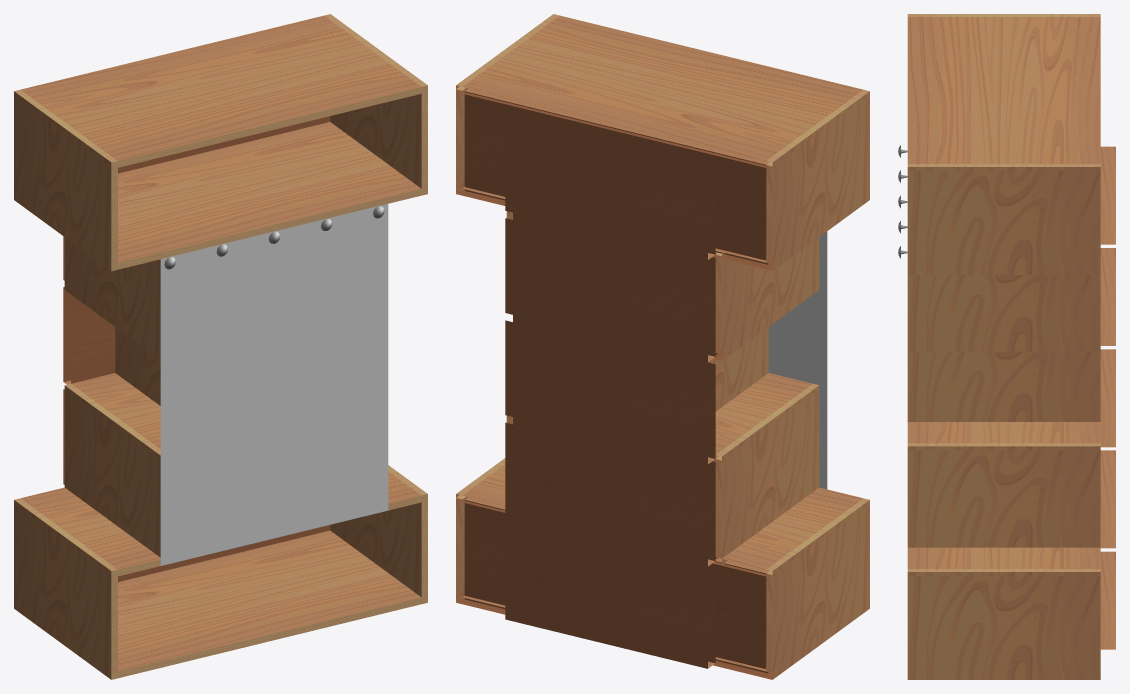
Rendered from layout_poster_hourglass_shape_11c.fbx.
3 renders of one model, left to right at view 1: azimuth 30°, elevation 25°; view 2: azimuth 150°, elevation 25°; view 3: azimuth 270°, elevation 25°, orthographic.
Parts seen in each view (by area): view 1: Mesh-Poster-Large01, Shelf-TM-00 3, Shelf-BM-00 4, Shelf-BM-00 3, Shelf-CL-01 4, Shelf-CL-01 3, Shelf-CL-01 2, Shelf-CL-01 1, Shelf-TM-00 4, Shelf-CR-01 3, Shelf-CR-01 4, Shelf-Back-00 (1) (+12 smaller); view 2: Shelf-TM-00 3, Shelf-Back-00 (1) 3, Shelf-Back-00 (1) 4, Shelf-Back-00 (1) 1, Shelf-Back-00 (1) 2, Shelf-Back-00 (1), Shelf-Back-00 3, Shelf-CL-01 2, Shelf-CL-01 3, Shelf-CL-01 4, Shelf-Back-00 4, Shelf-CL-01 1 (+15 smaller); view 3: Shelf-TM-00 3, Shelf-CR-01 2, Shelf-CR-01 3, Shelf-CR-01 4, Shelf-CR-01, Shelf-CR-01 1, Shelf-TM-00 2, Shelf-TM-00 4, Shelf-Back-00 (1), Shelf-Back-00 (1) 2, Shelf-Back-00 (1) 3, Shelf-Back-00 (1) 4 (+8 smaller).
Part boxes in pixels (box(x1,y1,x2,y2)): Mesh-Poster-Large01: box(160, 203, 388, 565); Shelf-TM-00 3: box(21, 15, 421, 167); Shelf-BM-00 4: box(118, 530, 421, 678); Shelf-BM-00 3: box(118, 122, 421, 269); Shelf-CL-01 4: box(14, 504, 117, 672); Shelf-CL-01 3: box(14, 95, 117, 264); Shelf-CL-01 2: box(64, 389, 160, 556); Shelf-CL-01 1: box(64, 237, 168, 352); Shelf-TM-00 4: box(21, 471, 421, 576); Shelf-CR-01 3: box(330, 89, 427, 188); Shelf-CR-01 4: box(330, 498, 427, 597); Shelf-Back-00 (1): box(63, 287, 115, 384); Shelf-TM-00 3: box(462, 15, 862, 167); Shelf-Back-00 (1) 3: box(505, 110, 715, 260); Shelf-Back-00 (1) 4: box(505, 519, 715, 668); Shelf-Back-00 (1) 1: box(505, 213, 715, 362); Shelf-Back-00 (1) 2: box(505, 417, 715, 566); Shelf-Back-00 (1): box(505, 315, 715, 464); Shelf-Back-00 3: box(464, 88, 769, 264); Shelf-CL-01 2: box(715, 389, 819, 558); Shelf-CL-01 3: box(766, 95, 869, 264); Shelf-CL-01 4: box(766, 504, 869, 672); Shelf-Back-00 4: box(464, 497, 769, 673); Shelf-CL-01 1: box(715, 237, 819, 353); Shelf-TM-00 3: box(907, 17, 1100, 163); Shelf-CR-01 2: box(907, 450, 1100, 547); Shelf-CR-01 3: box(907, 171, 1100, 267); Shelf-CR-01 4: box(907, 576, 1100, 672); Shelf-CR-01: box(907, 351, 1100, 421); Shelf-CR-01 1: box(907, 275, 1100, 344); Shelf-TM-00 2: box(907, 422, 1100, 443); Shelf-TM-00 4: box(907, 547, 1100, 568); Shelf-Back-00 (1): box(1100, 349, 1115, 447); Shelf-Back-00 (1) 2: box(1100, 450, 1115, 548); Shelf-Back-00 (1) 3: box(1100, 146, 1115, 244); Shelf-Back-00 (1) 4: box(1100, 551, 1115, 649).
Bounding box in the file's own units: 150 × 234 × 90.19.
